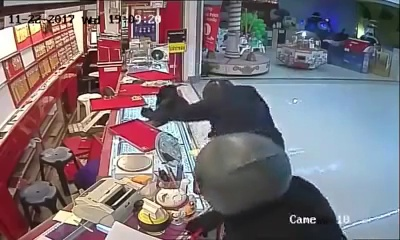helmet: (192, 136, 296, 217), (199, 73, 231, 93)
